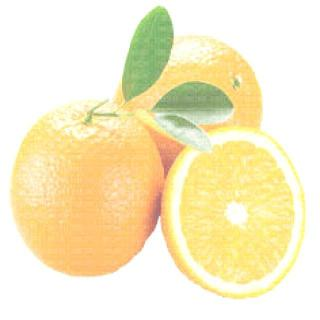orange: (2, 87, 166, 295), (68, 10, 278, 170), (148, 124, 318, 320)
